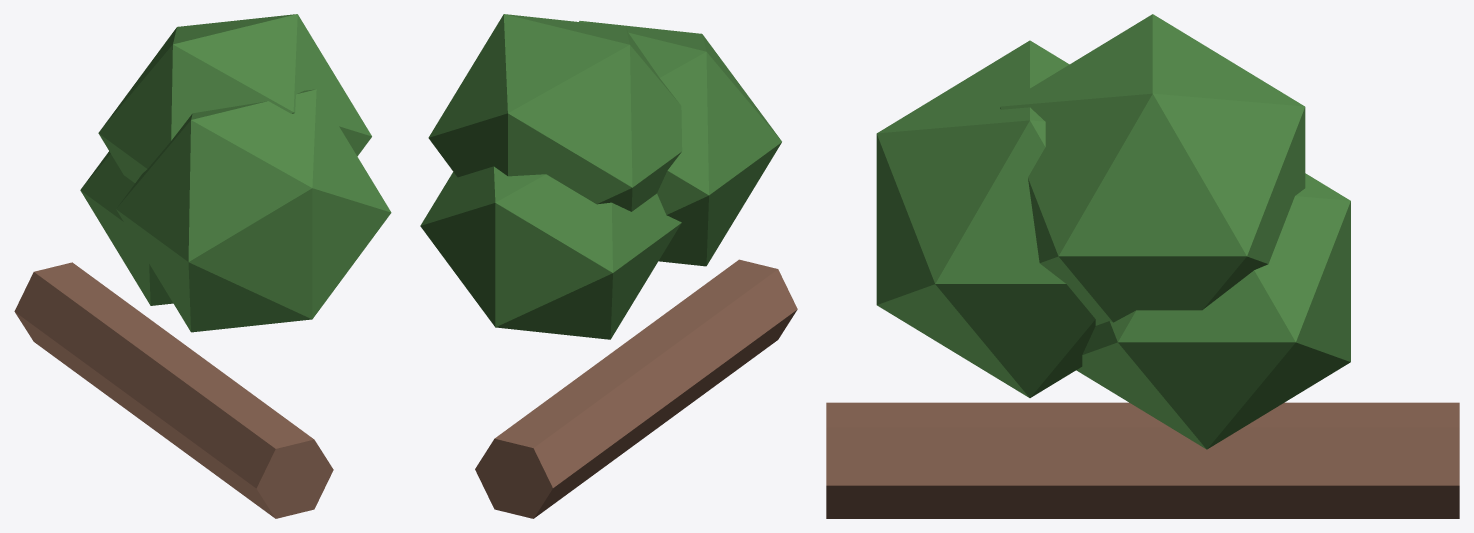
File: tree_s4_04.glb
3 views of the same model, side by side, from view 1: azimuth 30°, elevation 25°; view 2: azimuth 150°, elevation 25°; view 3: azimuth 270°, elevation 25° (orthographic). The views are drawn at different scales.
Visible parts, largest first — view 1: geometry_0; view 2: geometry_0; view 3: geometry_0.
Part boxes in pixels (box(x1,y1,x2,y2)): geometry_0: box(14, 14, 391, 518); geometry_0: box(420, 14, 797, 518); geometry_0: box(826, 14, 1459, 518).
Bounding box in the file's own units: 2.1 × 3.29 × 3.81.
